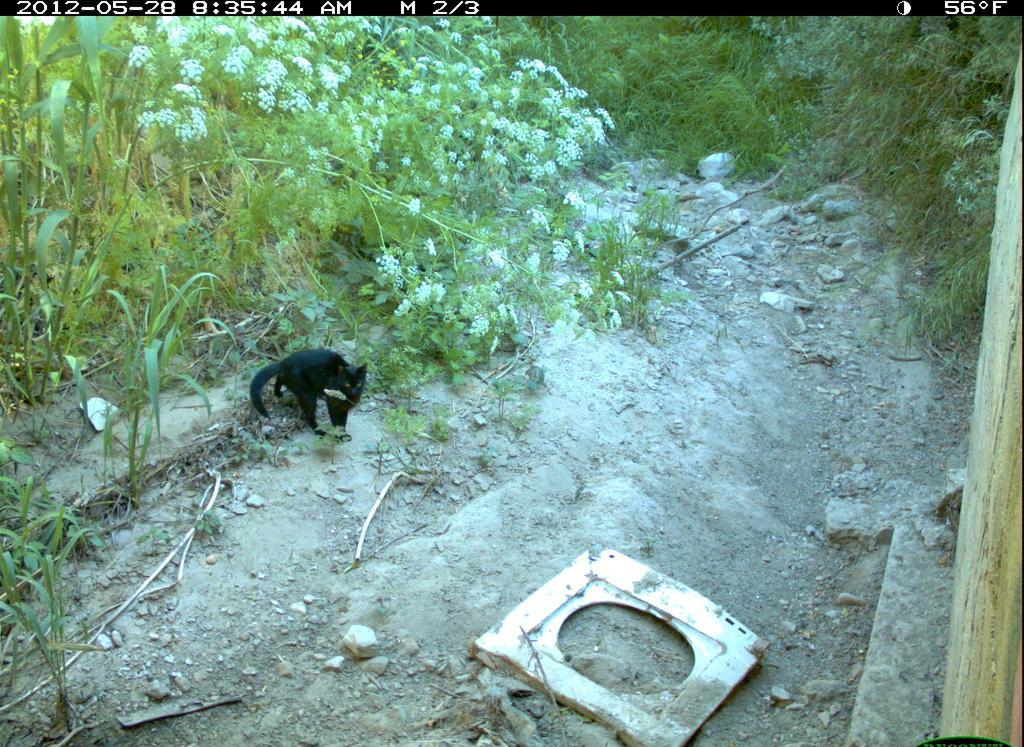opossum: (246, 345, 377, 442)
